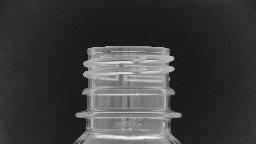No Cap: (72, 40, 186, 122)
